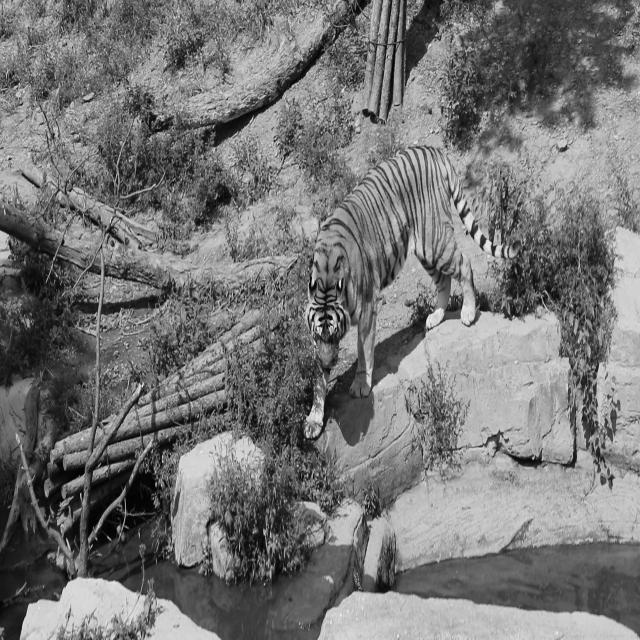Tiger: (302, 142, 523, 440)
